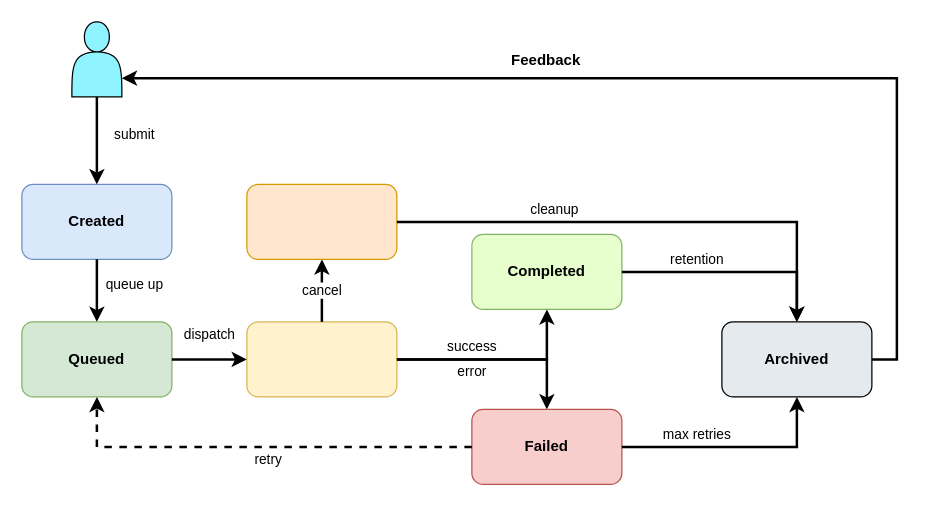
Some shapes in this 930 by 506 pixel diagram are drawn without their labels. The shapes that lost their labels are listed below. From the top down, each one's centre as x and y in pixels, then its label:
At (x=321, y=221): "Cancelled".
At (x=321, y=359): "Running".
